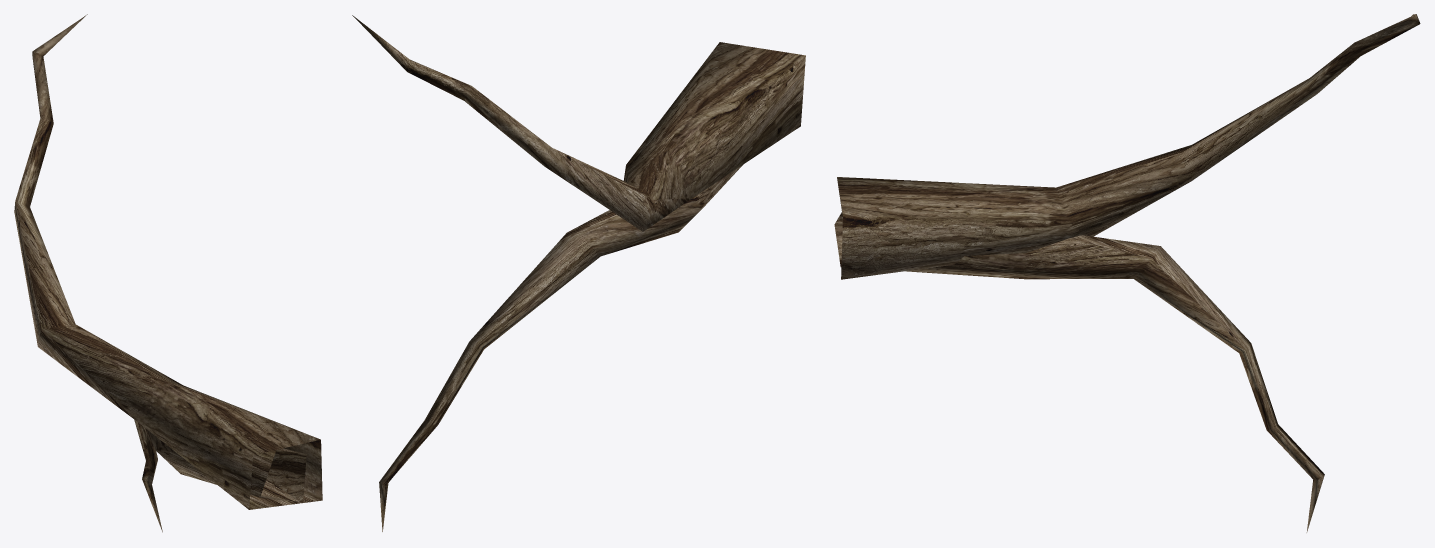
Rendered from MEP_DTree_03.fbx.
3 views of the same model, side by side, from view 1: azimuth 30°, elevation 25°; view 2: azimuth 150°, elevation 25°; view 3: azimuth 270°, elevation 25° (orthographic). The views are drawn at different scales.
Parts seen in each view (by area): view 1: MEP_DTree_03; view 2: MEP_DTree_03; view 3: MEP_DTree_03.
Boxes of the visible parts, bbox=[...] form: MEP_DTree_03: bbox=[14, 14, 322, 532]; MEP_DTree_03: bbox=[352, 15, 805, 531]; MEP_DTree_03: bbox=[834, 14, 1420, 532].
Size of the model in its own units: 2.09 by 5.51 by 5.77.
